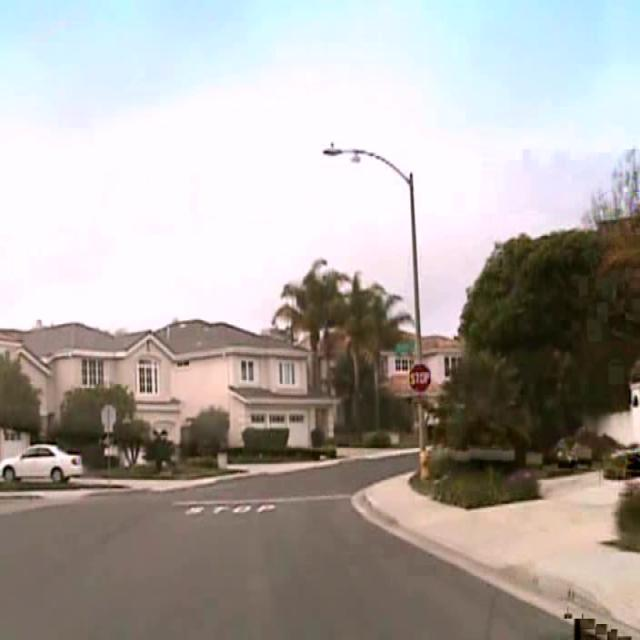stop: (408, 362, 431, 394)
